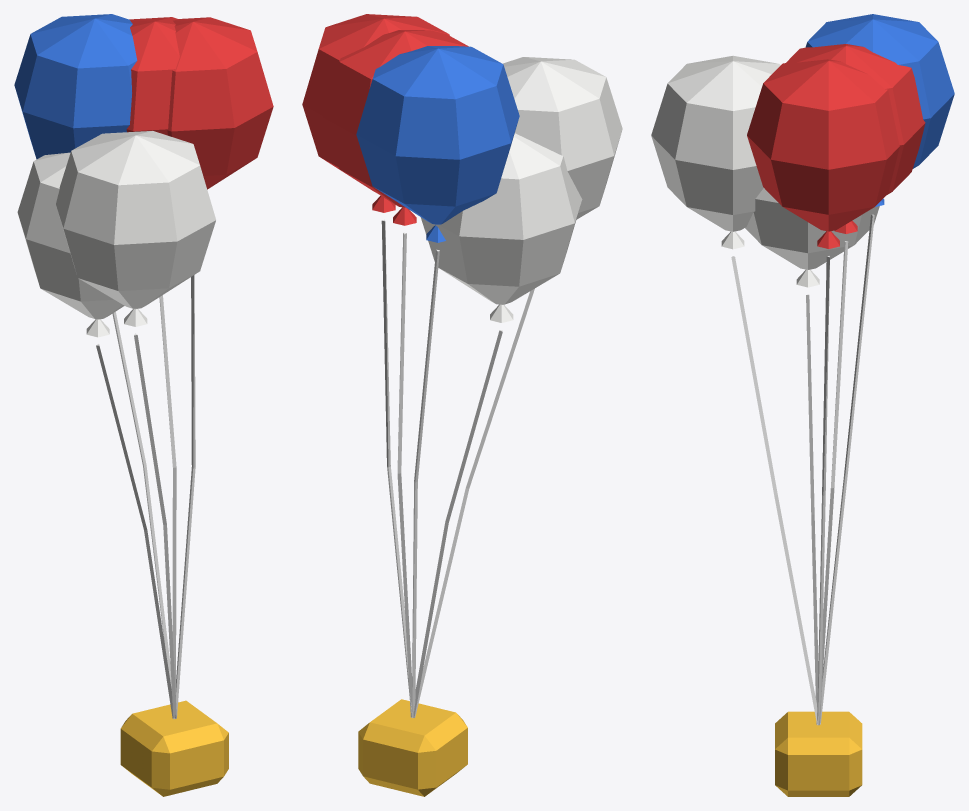
The model's file is StarBalloons.fbx.
3 renders of one model, left to right at view 1: azimuth 30°, elevation 25°; view 2: azimuth 150°, elevation 25°; view 3: azimuth 270°, elevation 25°, orthographic. The views are drawn at different scales.
Visible parts, largest first — view 1: StarBalloons; view 2: StarBalloons; view 3: StarBalloons.
Boxes of the visible parts, <box> form: StarBalloons: <box>14,14,273,796</box>; StarBalloons: <box>302,14,622,796</box>; StarBalloons: <box>651,14,954,796</box>.
Bounding box in the file's own units: 2.6 × 7.47 × 2.78.
1 material, 1 textured.
